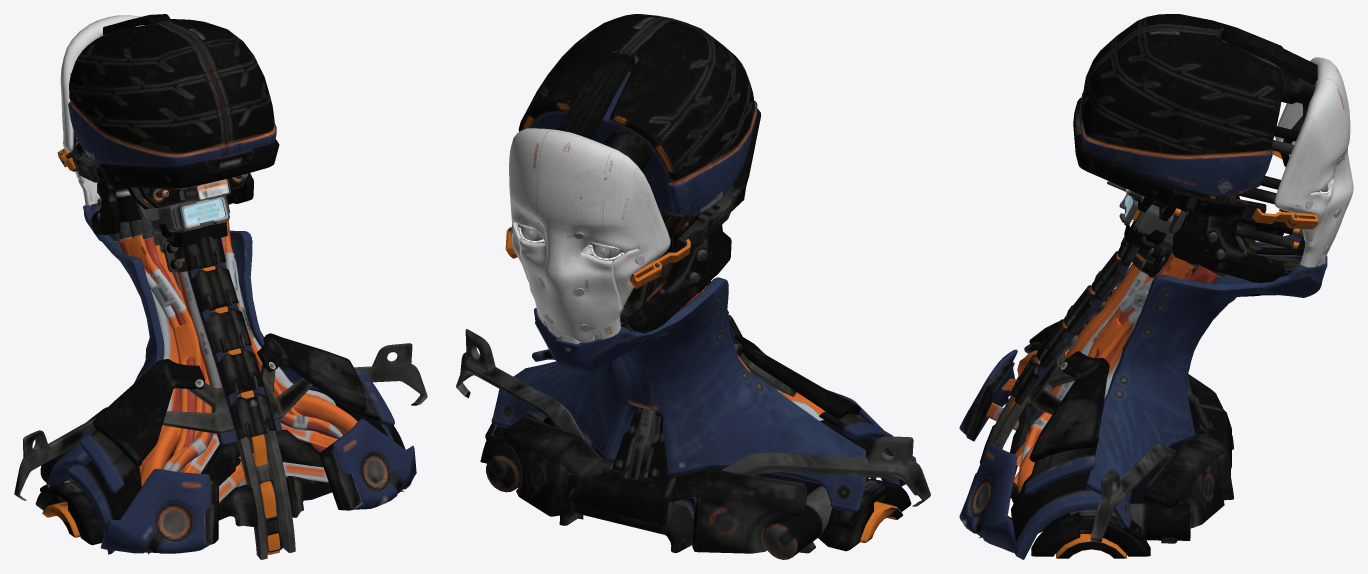
File: adamHead.gltf
3 views of the same model, side by side, from view 1: azimuth 30°, elevation 25°; view 2: azimuth 150°, elevation 25°; view 3: azimuth 270°, elevation 25° (orthographic). The views are drawn at different scales.
Visible parts, largest first — view 1: node_Object001_-5720, node_cables_-5610, node_mesh_Adam_spine_-5718, node_Adam_BloodyHeadBracket_-5606, node_mesh_Adam_mask_-5716, node_Adam_monitor_back_-5608; view 2: node_Object001_-5720, node_mesh_Adam_mask_-5716; view 3: node_Object001_-5720, node_mesh_Adam_mask_-5716, node_cables_-5610, node_Adam_BloodyHeadBracket_-5606, node_mesh_Adam_spine_-5718.
Boxes of the visible parts, x1,y1,x2,y2 form: node_Object001_-5720: (14, 14, 427, 554); node_cables_-5610: (122, 220, 357, 486); node_mesh_Adam_spine_-5718: (178, 224, 295, 559); node_Adam_BloodyHeadBracket_-5606: (100, 139, 279, 188); node_mesh_Adam_mask_-5716: (60, 15, 144, 205); node_Adam_monitor_back_-5608: (184, 199, 225, 225); node_Object001_-5720: (456, 14, 930, 559); node_mesh_Adam_mask_-5716: (509, 128, 670, 344); node_Object001_-5720: (959, 14, 1327, 559); node_mesh_Adam_mask_-5716: (1274, 57, 1353, 267); node_cables_-5610: (1013, 253, 1194, 492); node_Adam_BloodyHeadBracket_-5606: (1073, 98, 1184, 205); node_mesh_Adam_spine_-5718: (981, 231, 1144, 460).
Bounding box in the file's own units: 3.76 × 3.99 × 2.98.
13 materials, 7 textured.
